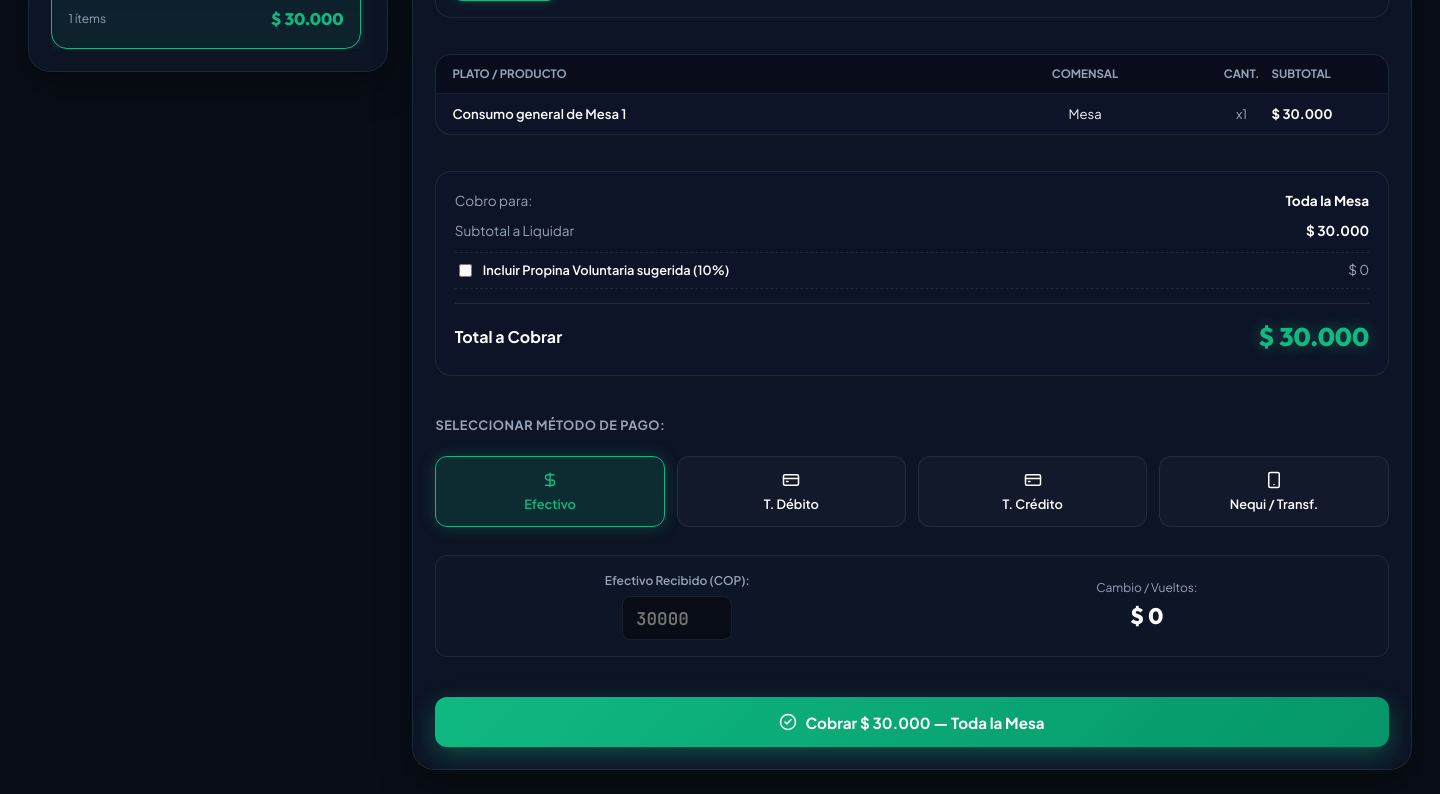
Flujo de Caja en frontend-restaurante › debe registrar el pago en efectivo y generar recibo
(page scrolled)
In the number field labelled "Efectivo Recibido (COP):": point(677, 618) [622,596,732,640], type "50000"
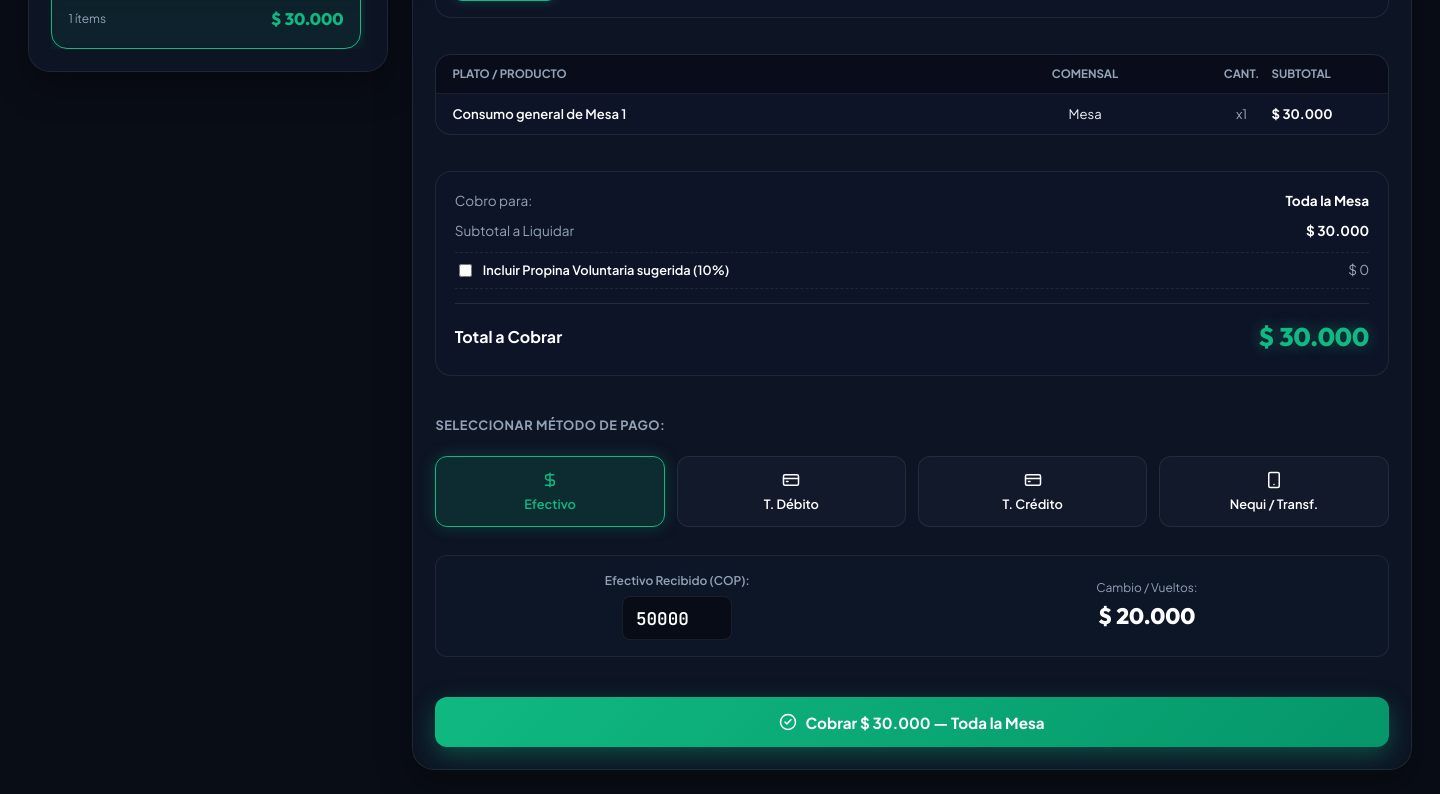
Click the button "Cobrar $ 30.000 — Toda la Mesa": point(912, 722) [435,697,1389,747]
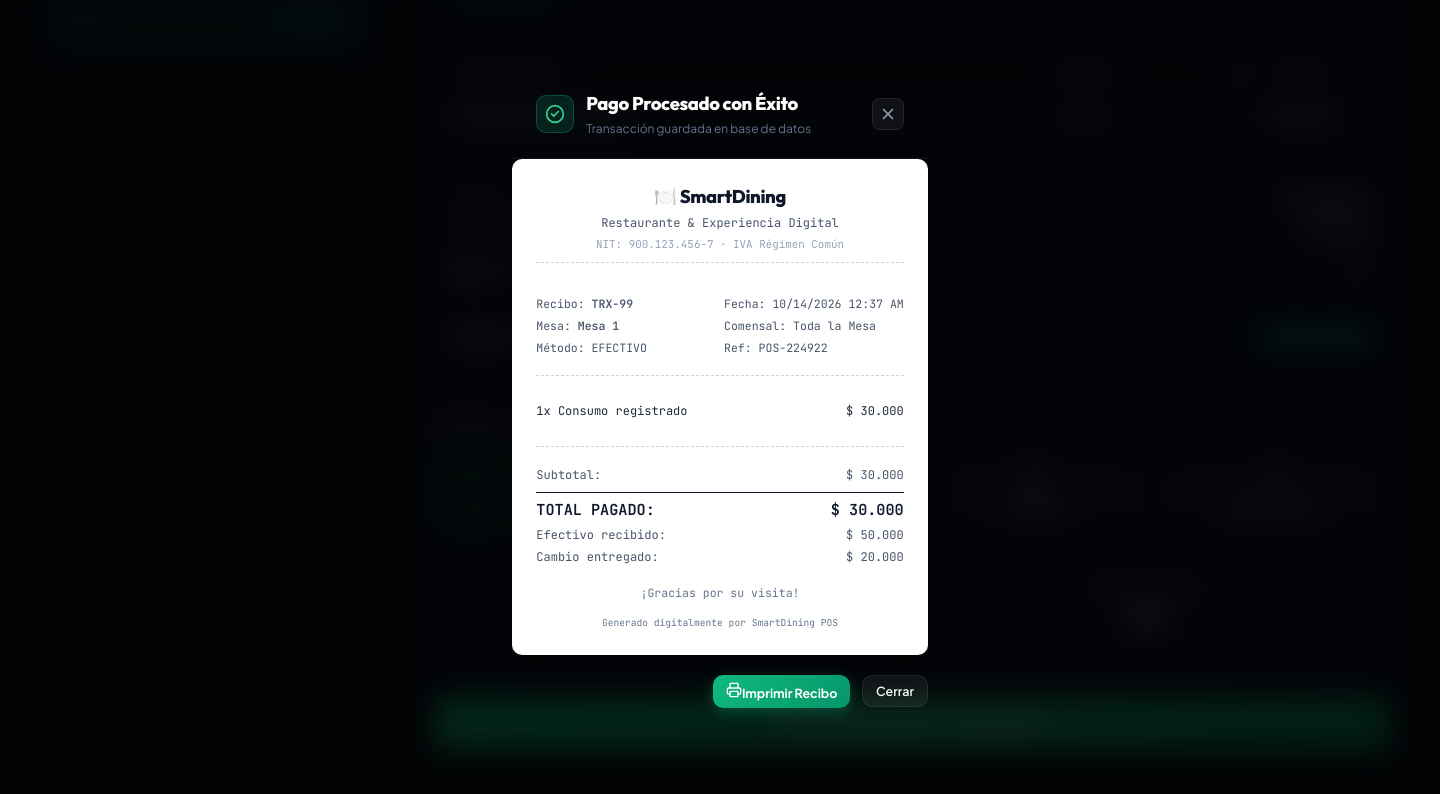
Now the heading "Pago Procesado con Éxito" is shown, box [586,90,811,118]
Now the text "TRX-99" is shown, box [592,296,633,311]
